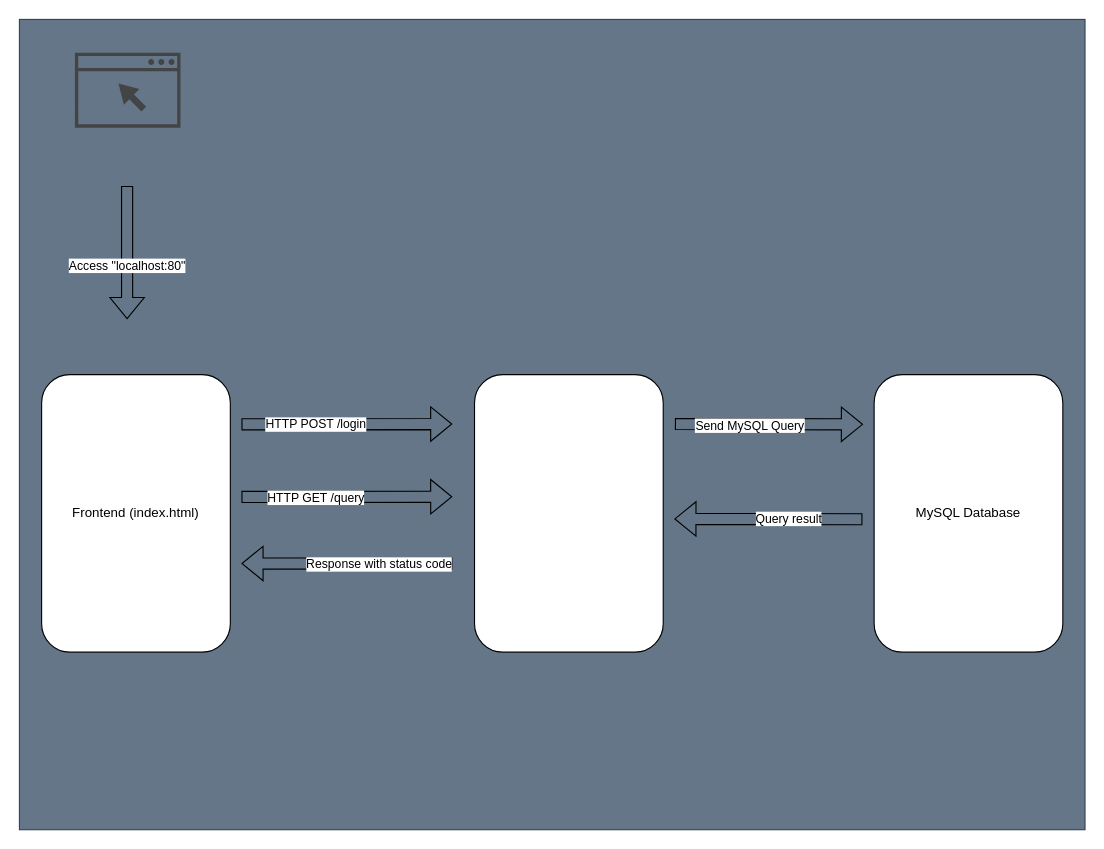
This 1104x849 diagram has some shape labels left out. The centre of each missing label's shape, as x and y in pixels:
Backend (Handles API Requests): the point at 568,513
User interacting through browser: the point at 127,89
